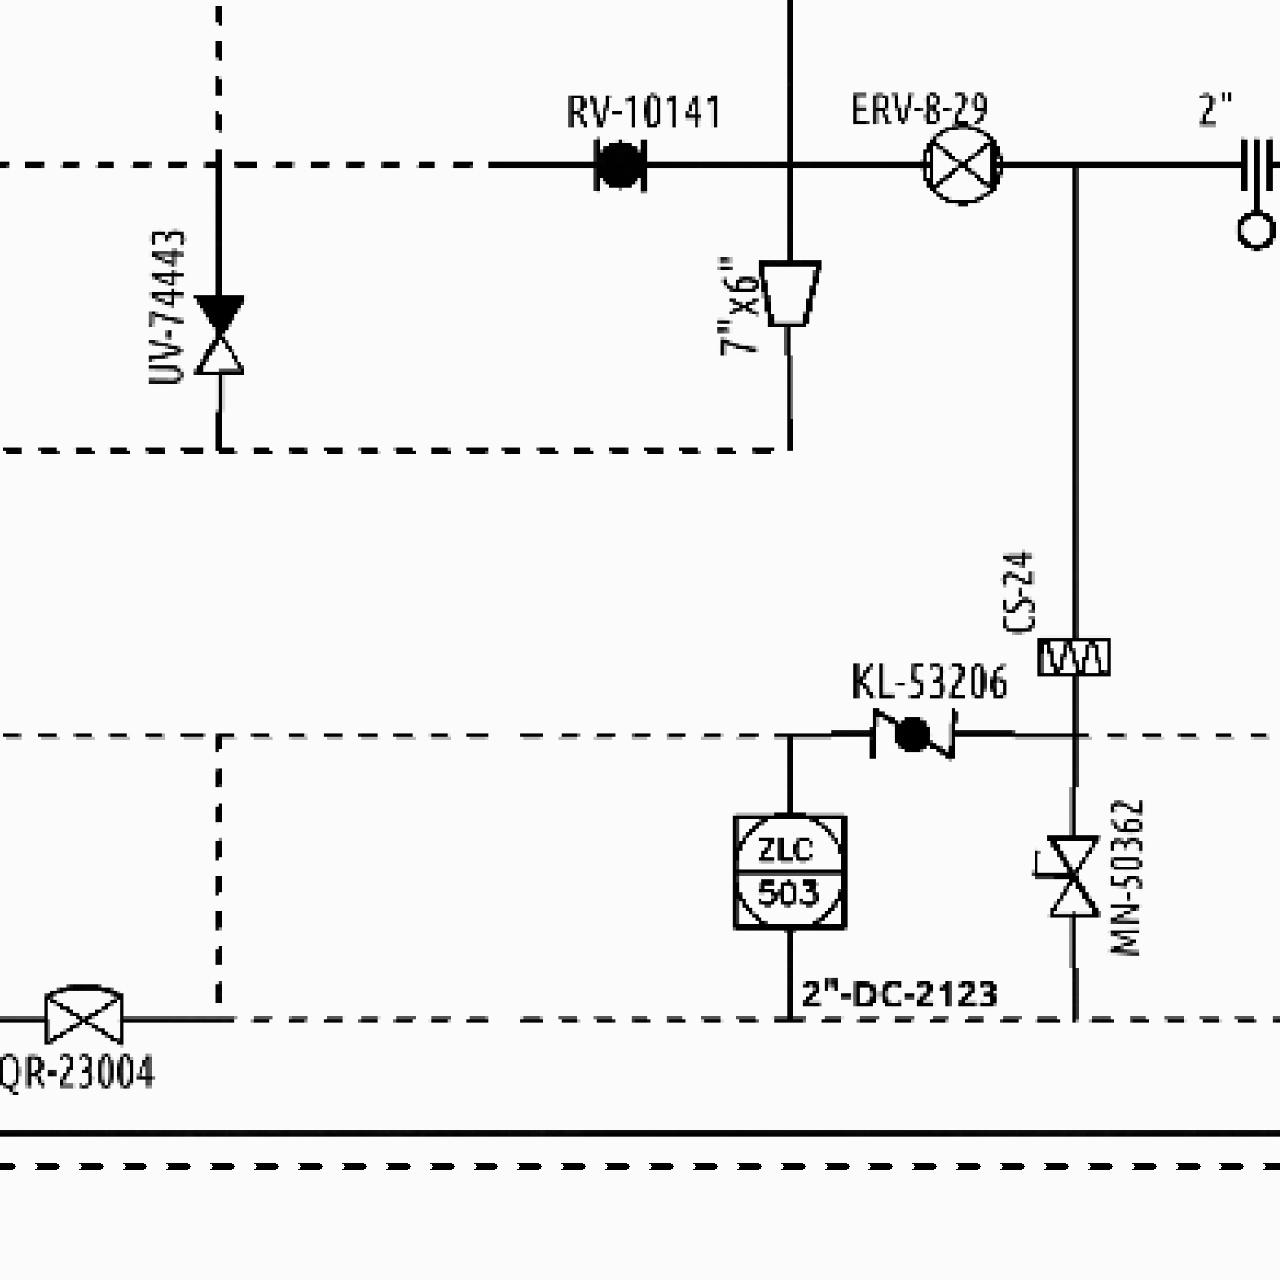Half closed valve: (188, 290, 248, 377)
